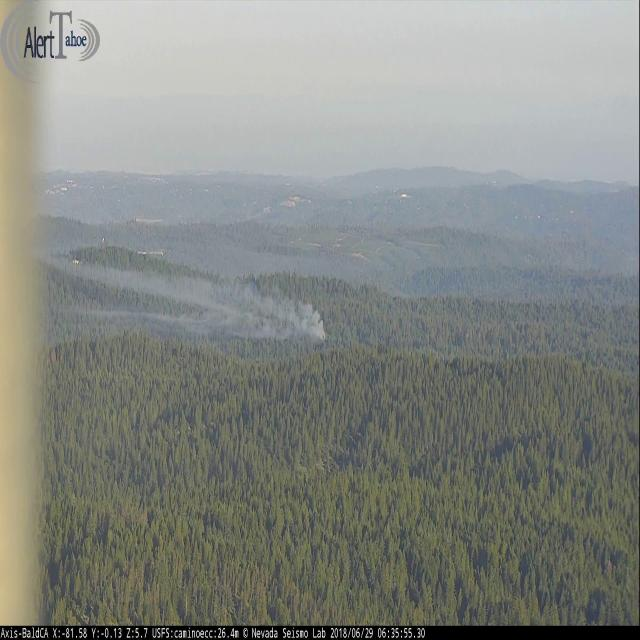smoke: (45, 246, 331, 351)
